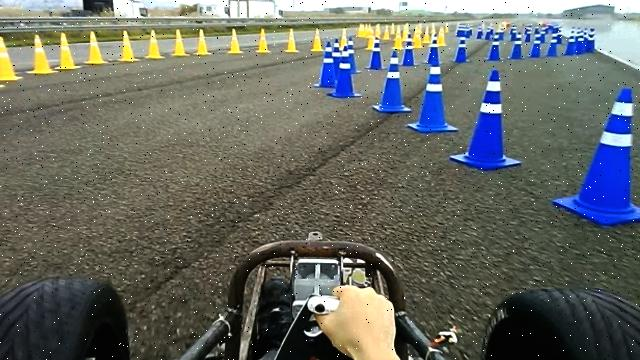blue cone: (552, 87, 640, 226), (450, 68, 522, 170), (406, 59, 458, 134), (372, 50, 412, 113), (327, 44, 363, 98), (314, 39, 336, 87)
yellow cone: (27, 34, 58, 74), (0, 35, 23, 81), (55, 31, 81, 70), (84, 30, 108, 65), (118, 30, 140, 62), (145, 29, 165, 59), (193, 28, 212, 56), (171, 28, 189, 57), (227, 27, 244, 54), (284, 27, 300, 53), (256, 28, 271, 53), (310, 27, 324, 52)
